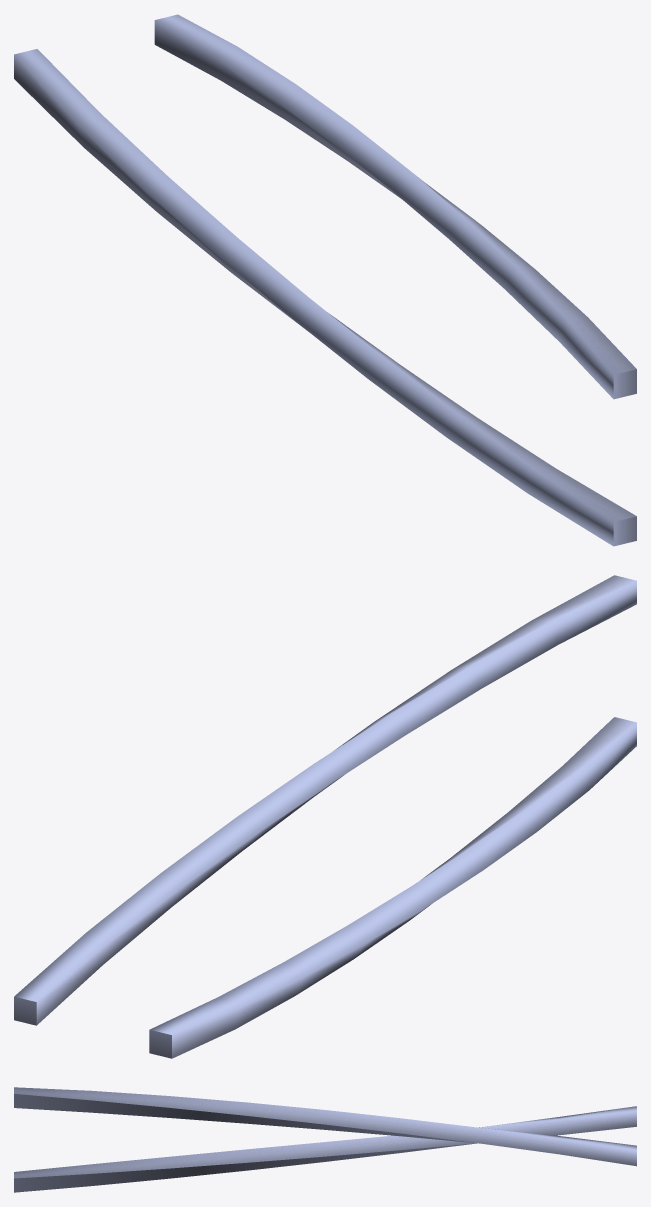
Rendered from railroad-rail-straight-skew-right-side.glb.
3 views of the same model, one above another, from view 1: azimuth 30°, elevation 25°; view 2: azimuth 150°, elevation 25°; view 3: azimuth 270°, elevation 25° (orthographic). The views are drawn at different scales.
Parts seen in each view (by area): view 1: railroad-rail-straight-skew-right-side; view 2: railroad-rail-straight-skew-right-side; view 3: railroad-rail-straight-skew-right-side.
Boxes of the visible parts, bbox=[...] form: railroad-rail-straight-skew-right-side: bbox=[14, 14, 636, 546]; railroad-rail-straight-skew-right-side: bbox=[14, 575, 636, 1058]; railroad-rail-straight-skew-right-side: bbox=[14, 1087, 636, 1192].
Bounding box in the file's own units: 0.7137 × 0.7137 × 4.
1 material, 1 textured.
